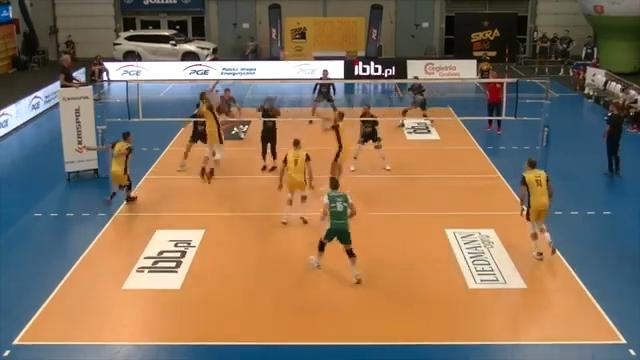alzata: (316, 103, 350, 199)
